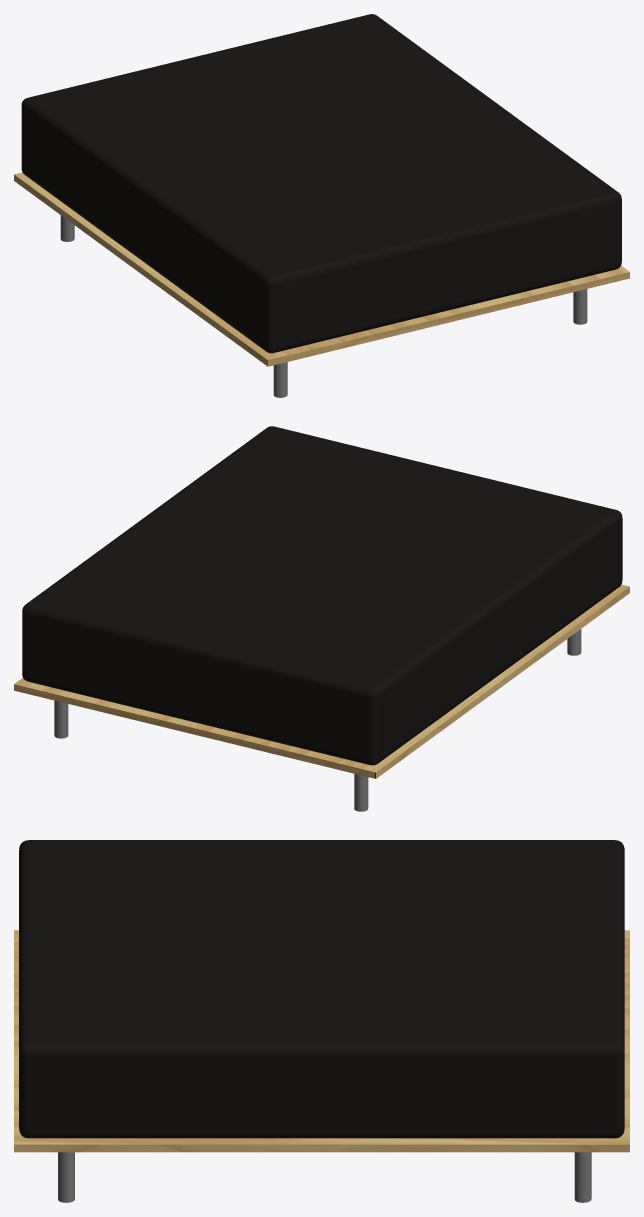
File: sofa1.obj
3 views of the same model, one above another, from view 1: azimuth 30°, elevation 25°; view 2: azimuth 150°, elevation 25°; view 3: azimuth 270°, elevation 25° (orthographic). The views are drawn at different scales.
Visible parts, largest first — view 1: house_interior:Box027 group1, group1 house_interior:Box028; view 2: house_interior:Box027 group1, group1 house_interior:Box028, group1 house_interior:Cylinder056, group1 house_interior:Cylinder055; view 3: house_interior:Box027 group1, group1 house_interior:Box028, group1 house_interior:Cylinder056, group1 house_interior:Cylinder058.
Boxes of the visible parts, x1,y1,x2,y2 form: house_interior:Box027 group1: (21,14,621,353); group1 house_interior:Box028: (14,172,629,366); house_interior:Box027 group1: (22,426,622,765); group1 house_interior:Box028: (14,584,629,778); group1 house_interior:Cylinder056: (54,700,68,738); group1 house_interior:Cylinder055: (354,774,368,811); house_interior:Box027 group1: (19,840,624,1138); group1 house_interior:Box028: (14,930,629,1152); group1 house_interior:Cylinder056: (574,1152,591,1202); group1 house_interior:Cylinder058: (58,1152,74,1202).
Size of the model in its own units: 2.9 by 1.05 by 3.53.
3 materials, 1 textured.
